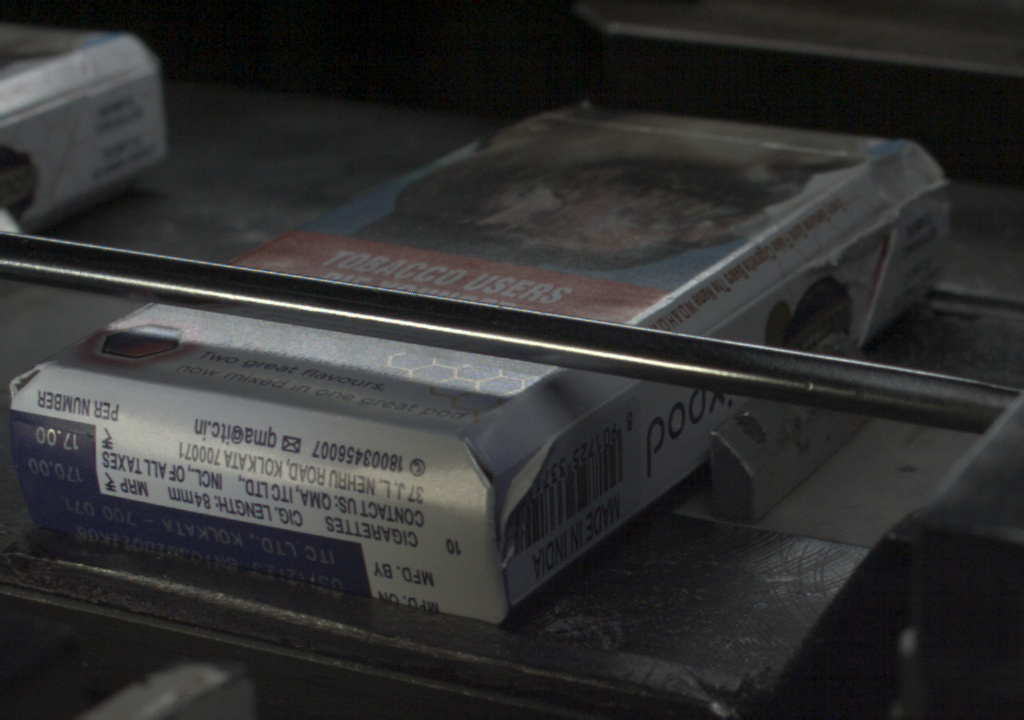g_label: (23, 493, 370, 597)
g_lmiter: (718, 275, 792, 332), (574, 384, 635, 429)
ng_bottom: (7, 364, 46, 440)
ng_lmiter: (493, 439, 559, 537)
ng_miter: (898, 175, 950, 208)
price: (12, 416, 98, 490)
